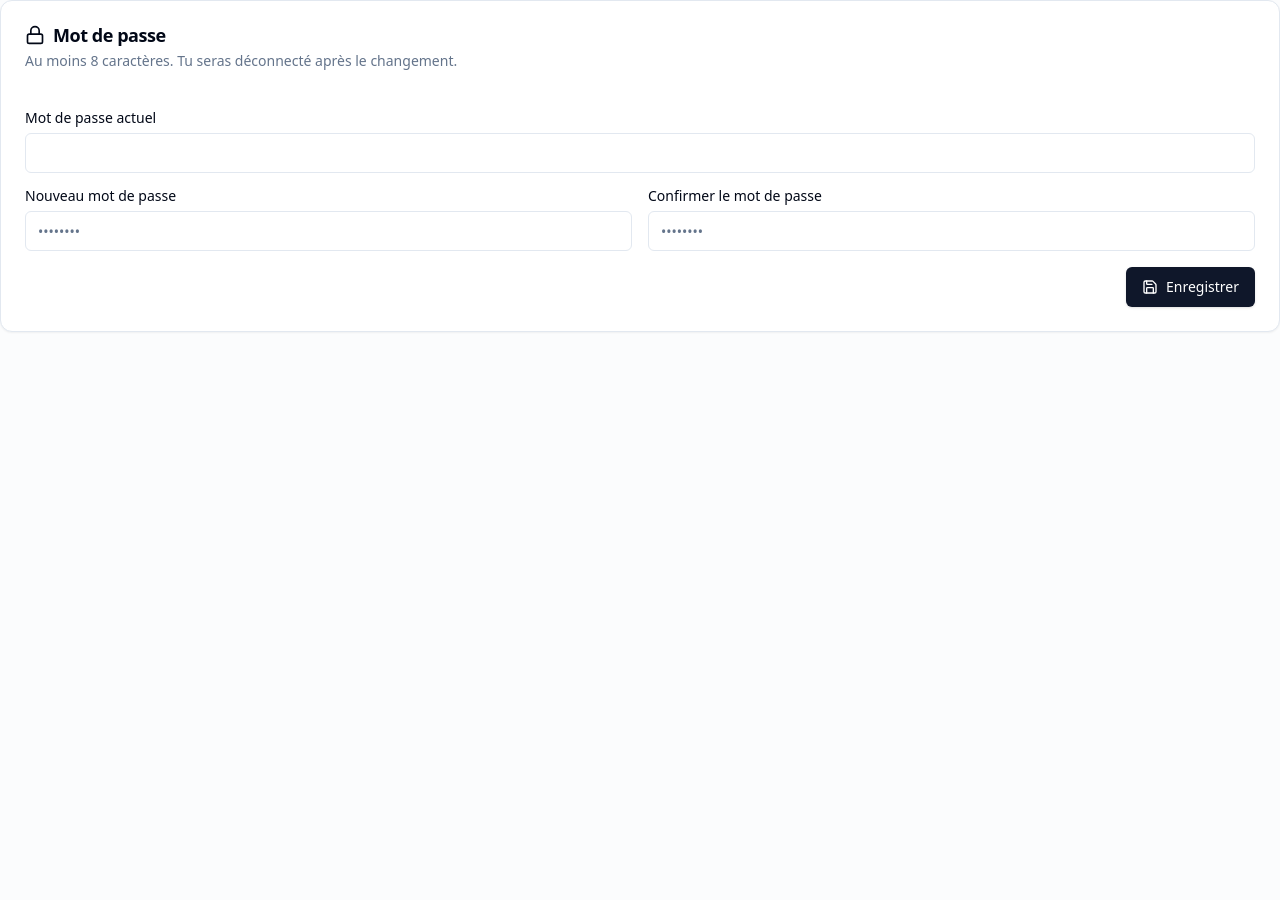
Scenario: PasswordCard › erreur 400 (mot de passe actuel faux) : message affiché, reste sur la page, session conservée
This screenshot has width=1280, height=900.
Type "faux" into the password field labelled "Mot de passe actuel" at (640, 153), box [25,133,1255,173]
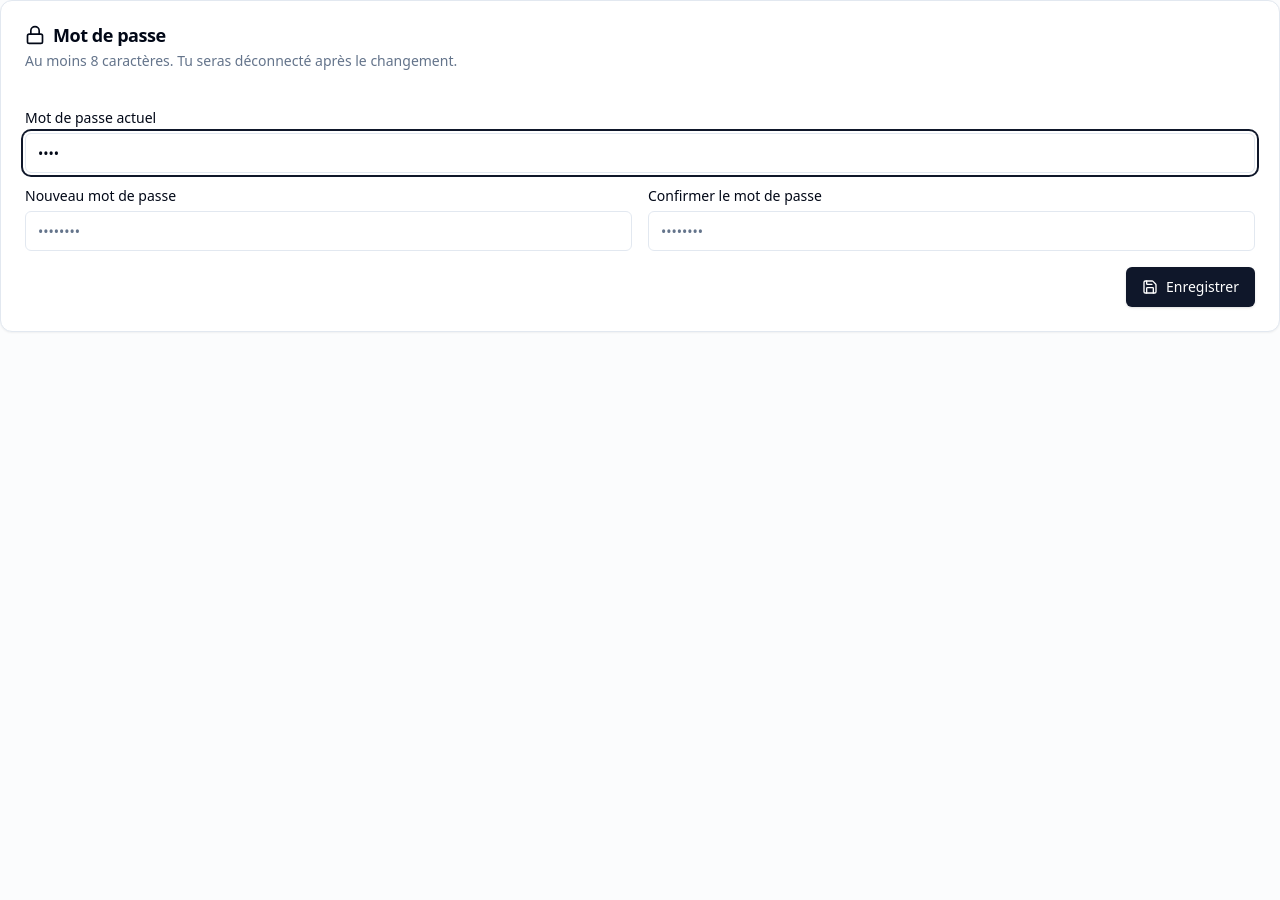
Type "nouveau-secret" into the password field labelled "Nouveau mot de passe" at (328, 231), box [25,211,632,251]
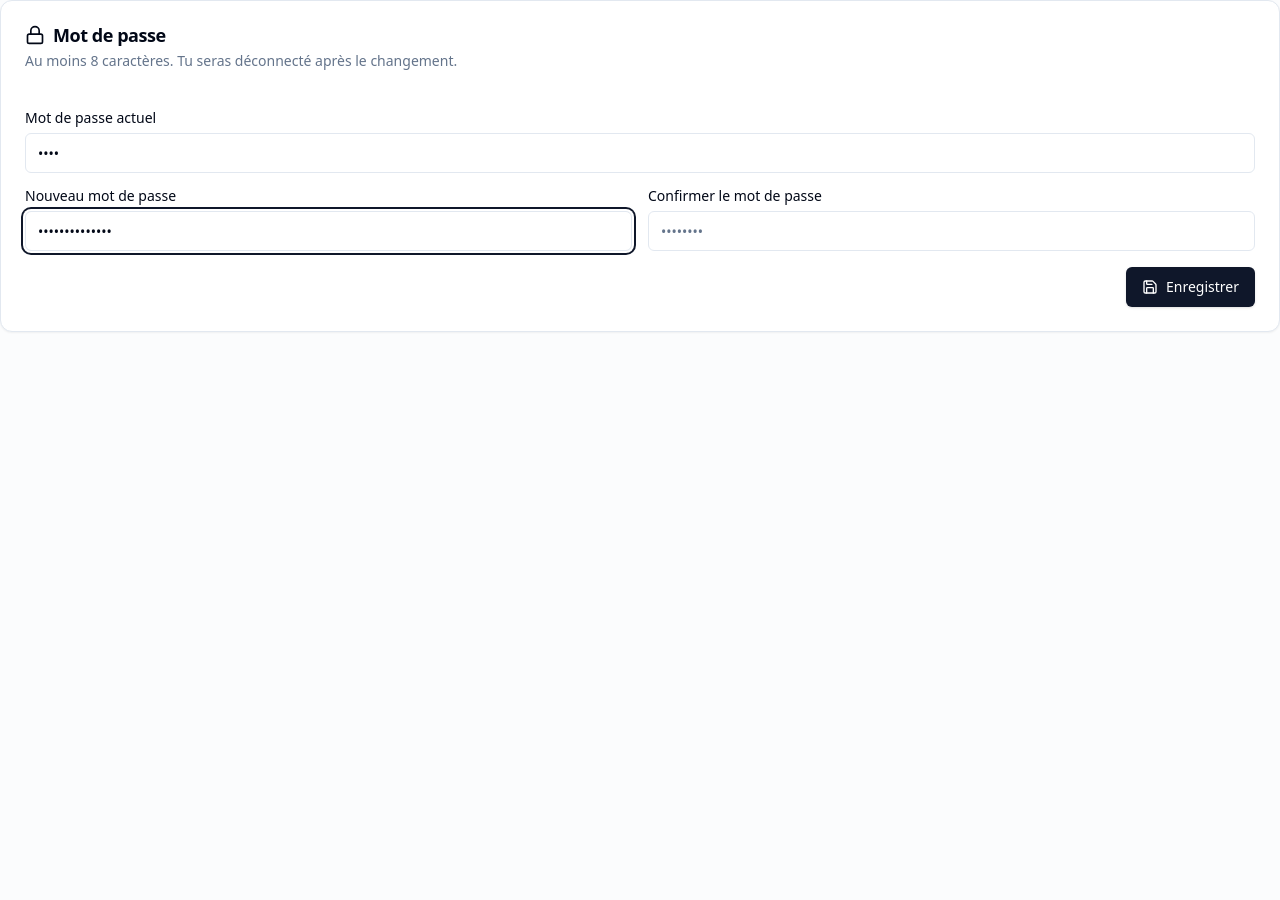
Type "nouveau-secret" into the password field labelled "Confirmer le mot de passe" at (952, 231), box [648,211,1255,251]
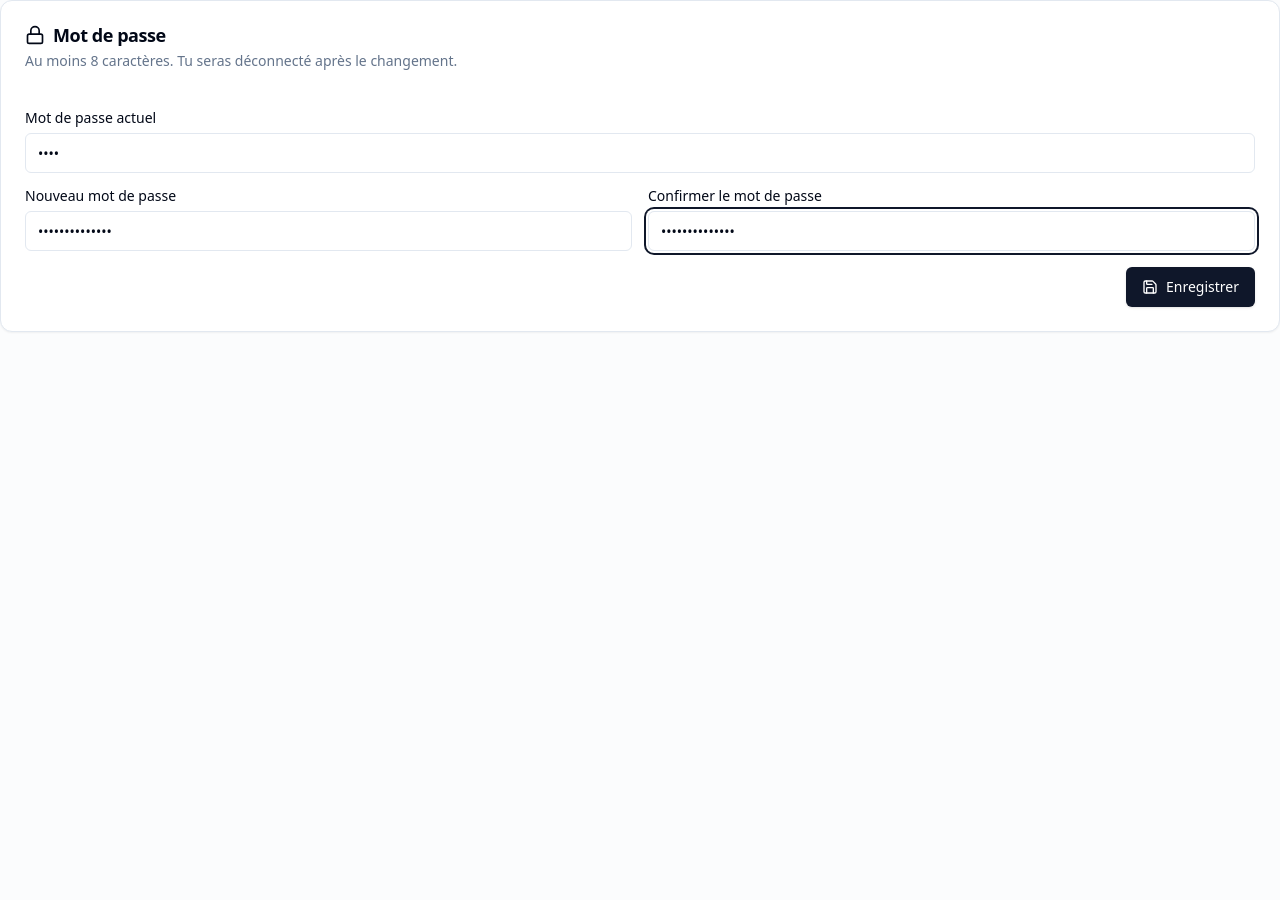
Click the button "Enregistrer" at (1190, 287), box [1126,267,1255,307]
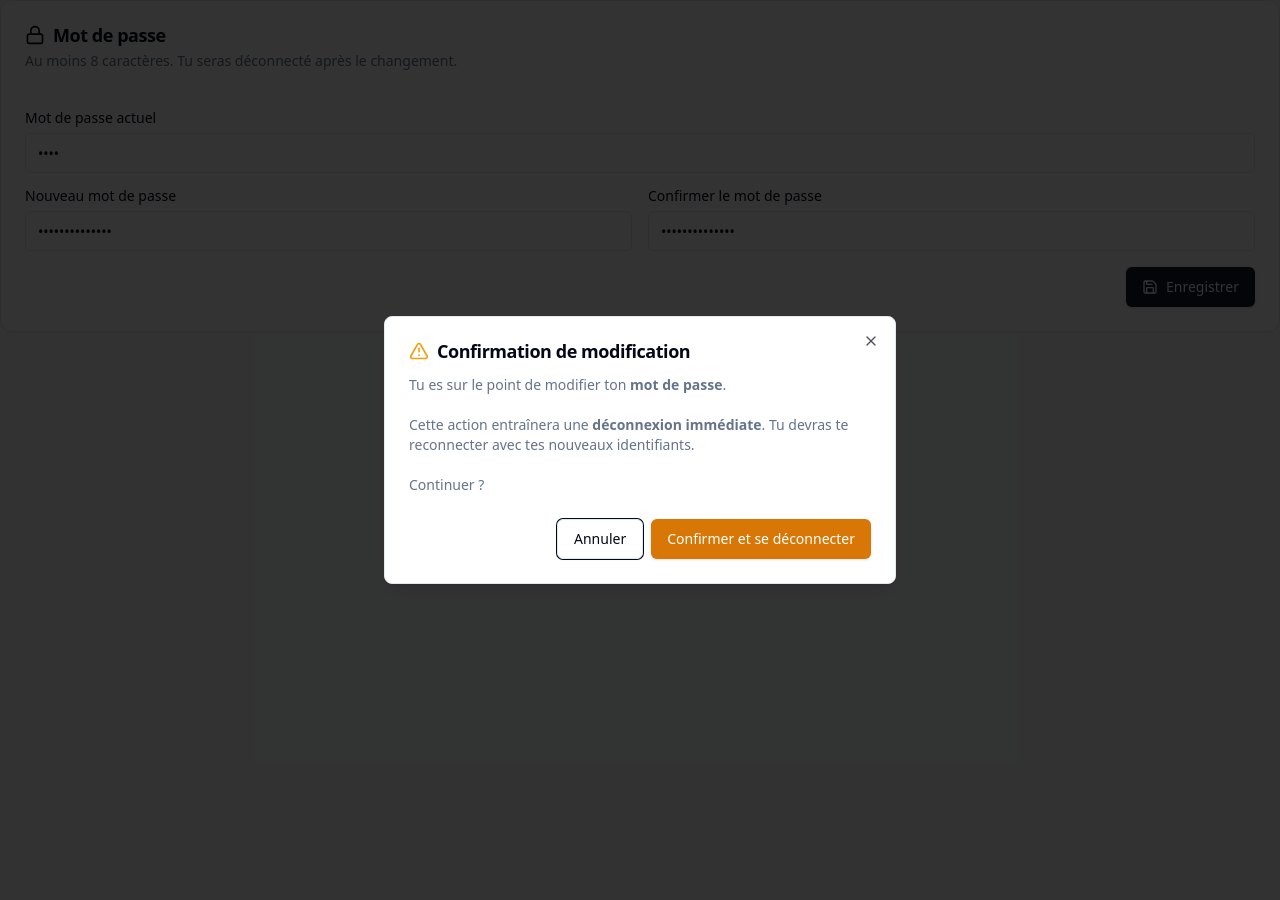
Click the button "Confirmer et se déconnecter" at (761, 539), box [651,519,871,559]
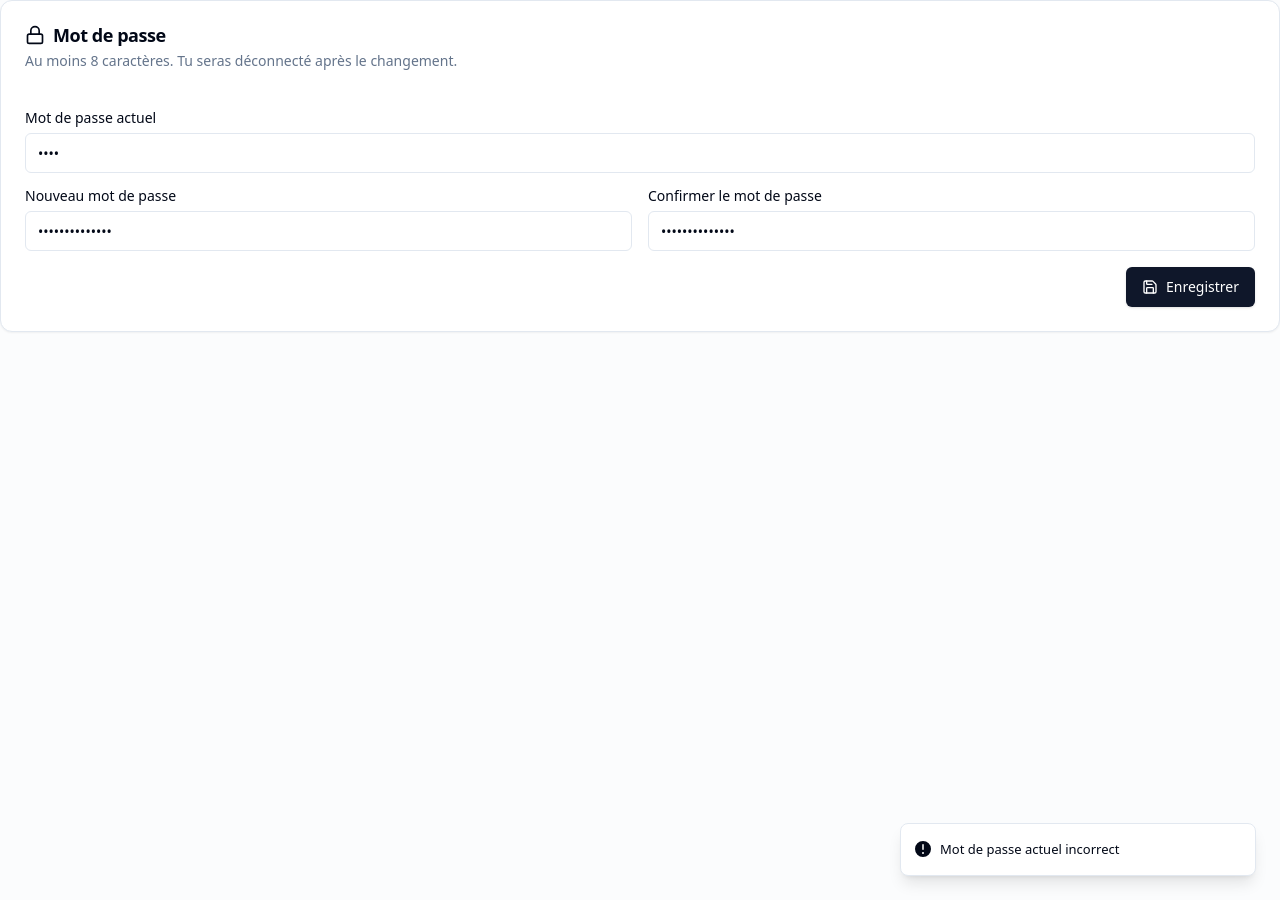
Expected: the button "Enregistrer" is enabled, [1126,267,1255,307]
Now the text "Mot de passe actuel incorrect" is shown, box [940,840,1120,859]
